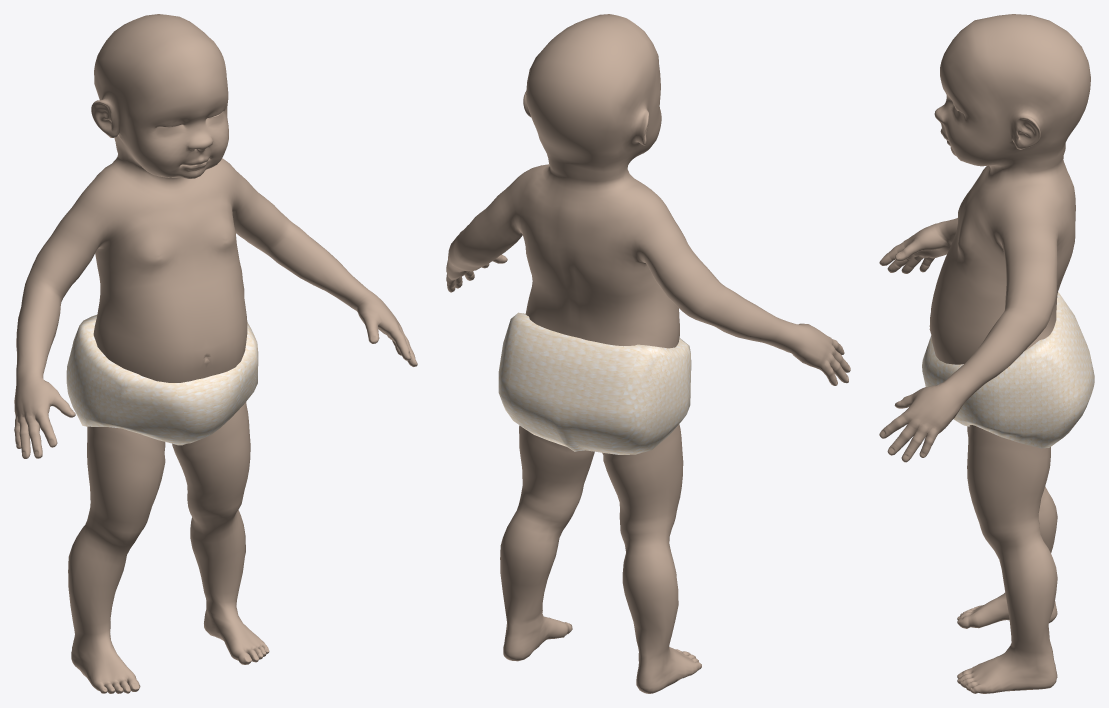
The model's file is baby_diaper.fbx.
3 renders of one model, left to right at view 1: azimuth 30°, elevation 25°; view 2: azimuth 150°, elevation 25°; view 3: azimuth 270°, elevation 25°, orthographic.
Parts seen in each view (by area): view 1: baby:base_obj, pCube1; view 2: baby:base_obj, pCube1; view 3: baby:base_obj, pCube1.
Part boxes in pixels (box(x1,y1,x2,y2)): baby:base_obj: box(14, 14, 417, 693); pCube1: box(66, 315, 258, 445); baby:base_obj: box(446, 14, 850, 693); pCube1: box(498, 312, 691, 454); baby:base_obj: box(879, 14, 1090, 693); pCube1: box(922, 292, 1094, 448).
Bounding box in the file's own units: 14.71 × 22.85 × 7.01.
Materials: 2 (1 with a texture image).
